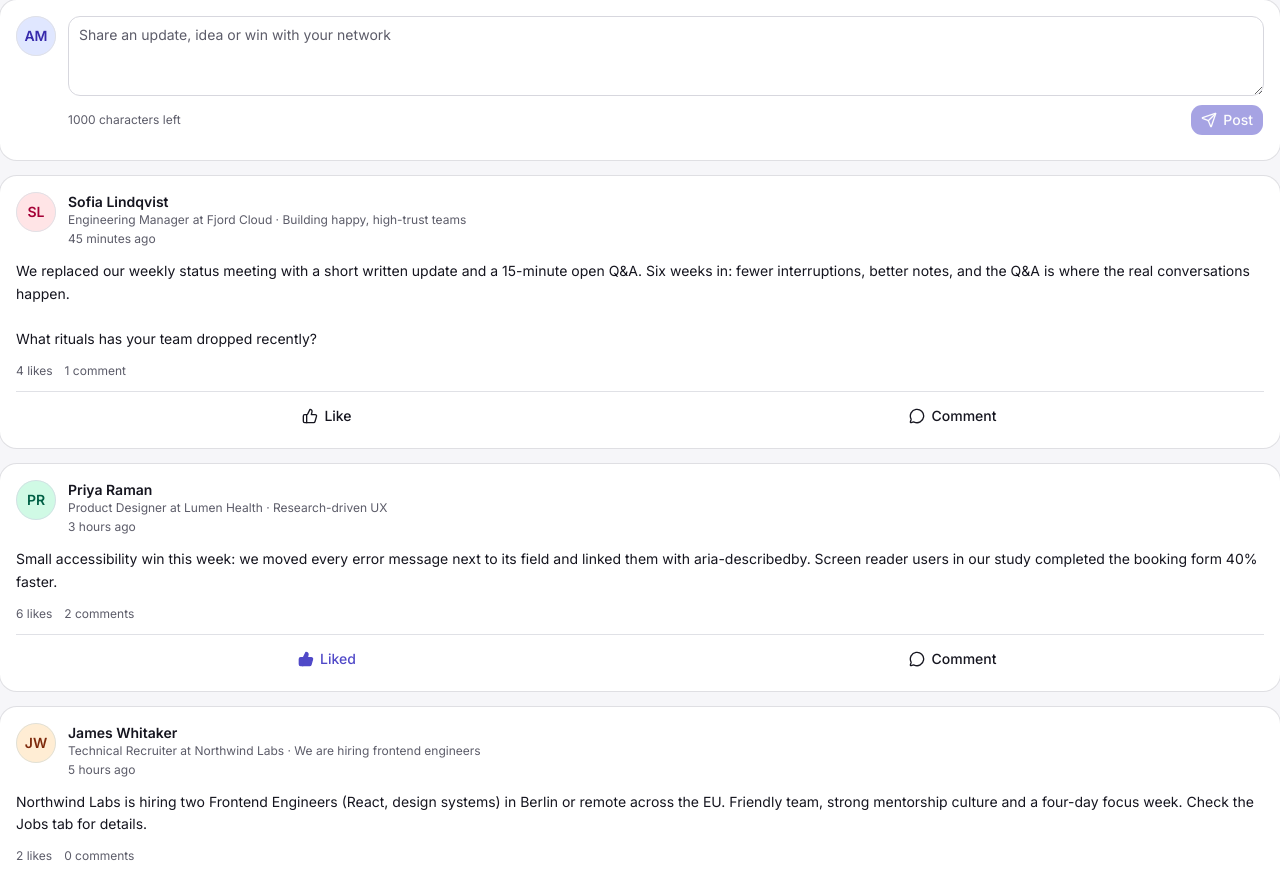
Test case: FeedList › adds a comment and focuses the comment field when opened
Click the 1st button "Comment" at [953, 416], box [642, 400, 1264, 432]
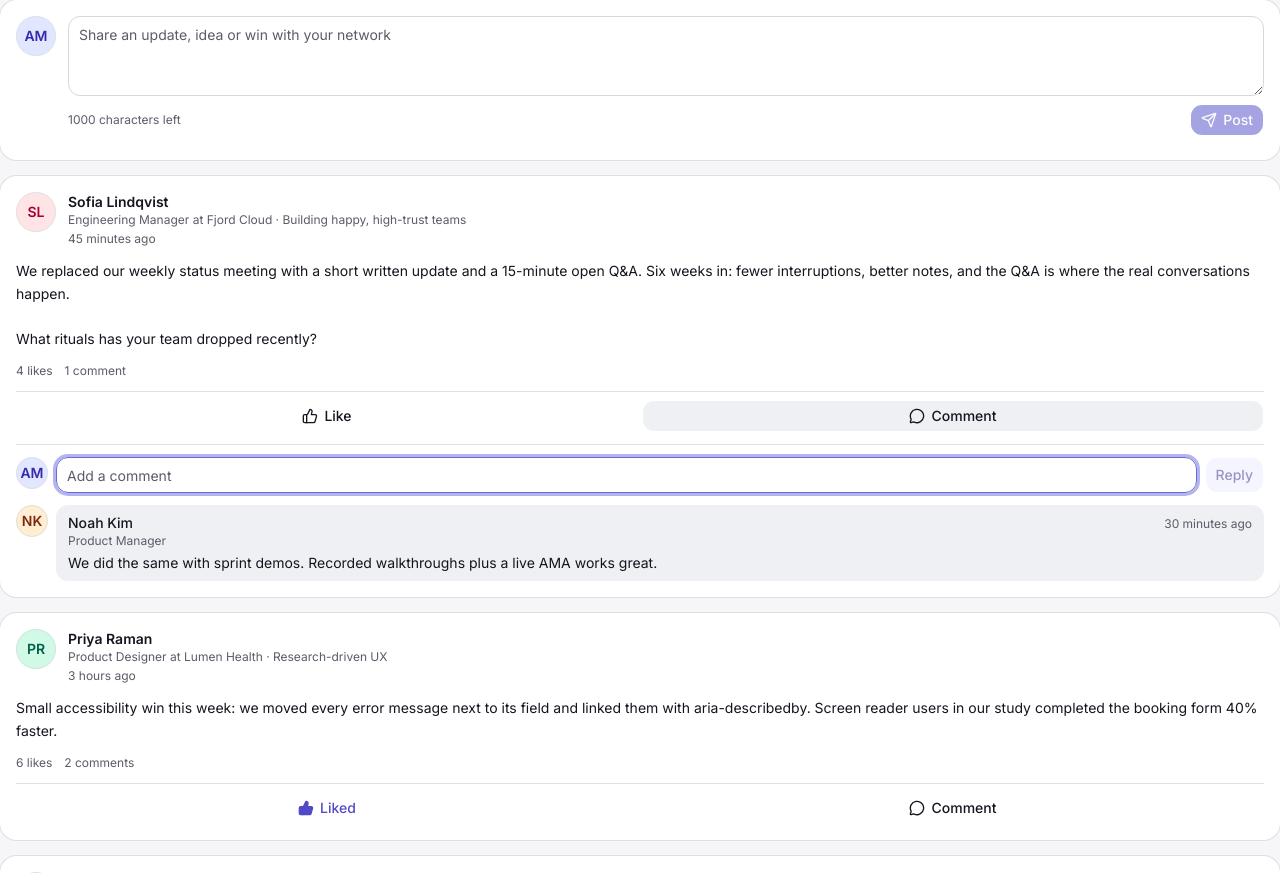
Type "Great idea" into the field labelled "Add a comment" at [626, 475], box [56, 457, 1197, 493]
Then press Enter
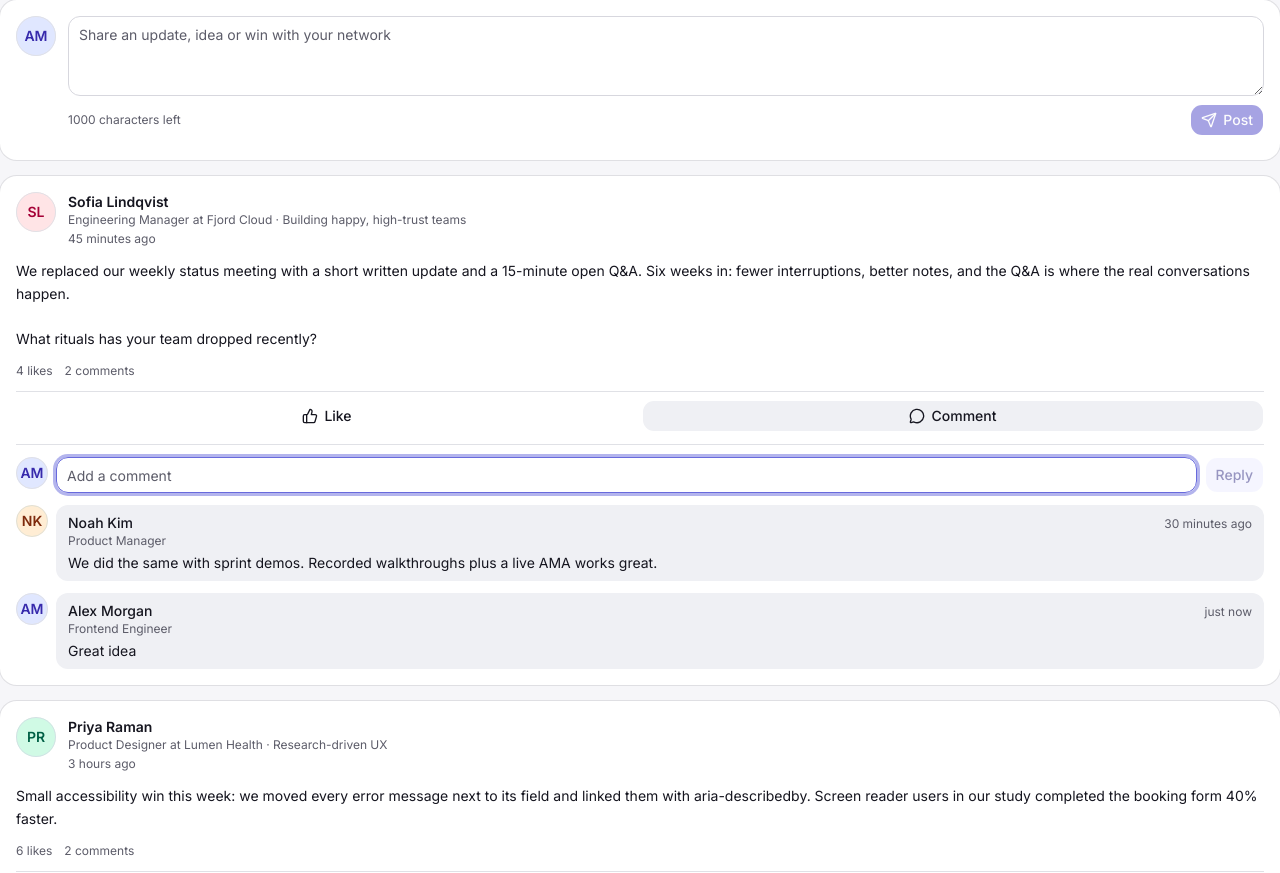
Expected: the text "Great idea" is shown, [68, 642, 136, 659]
Expected: the text "2 comments" next to "4 likes" is shown, [65, 363, 135, 378]
